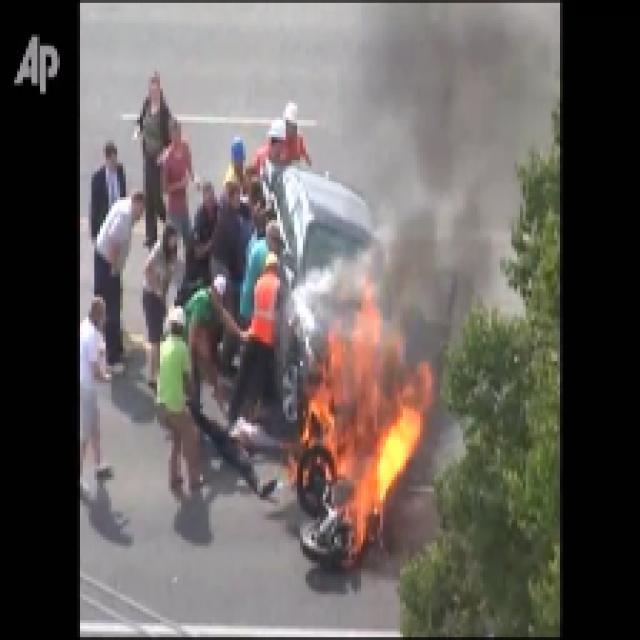Fire: (356, 26, 504, 314), (323, 360, 421, 538)
